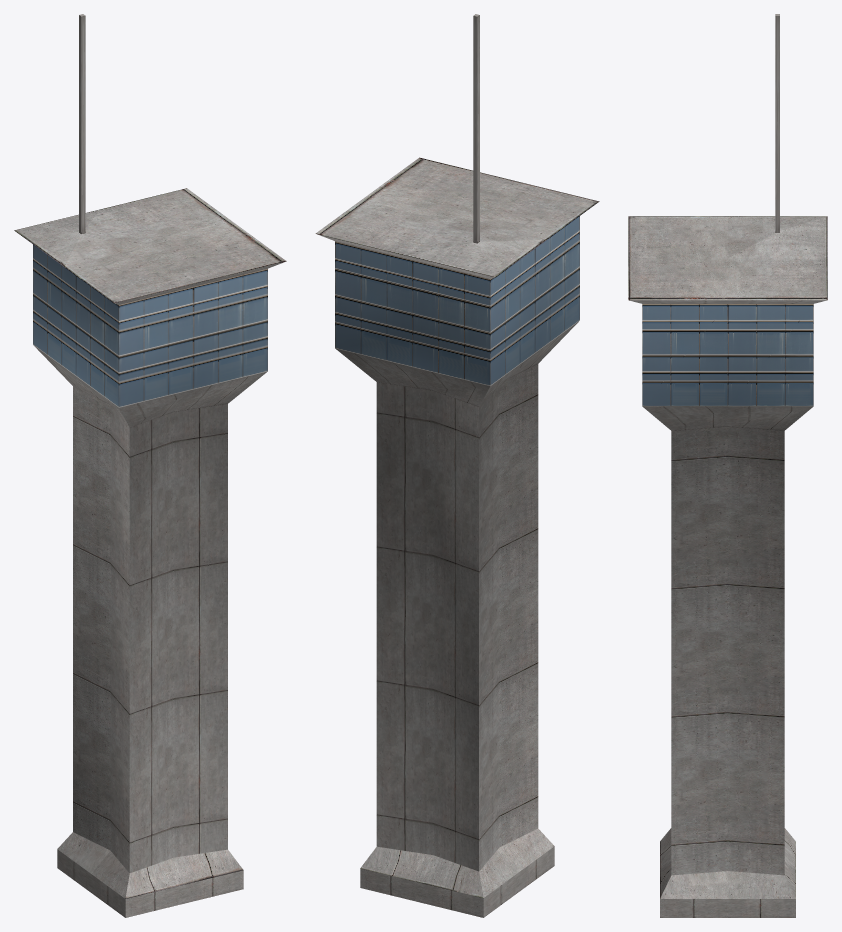
Rendered from tower.FBX.
The picture shows the model from 3 angles, left to right: view 1: azimuth 30°, elevation 25°; view 2: azimuth 150°, elevation 25°; view 3: azimuth 270°, elevation 25°; orthographic projection. The views are drawn at different scales.
Parts seen in each view (by area): view 1: tower; view 2: tower; view 3: tower.
Boxes of the visible parts, <box> form: tower: <box>14,14,286,917</box>; tower: <box>315,14,599,917</box>; tower: <box>628,14,827,917</box>.
Size of the model in its own units: 70.4 by 333 by 70.4.
